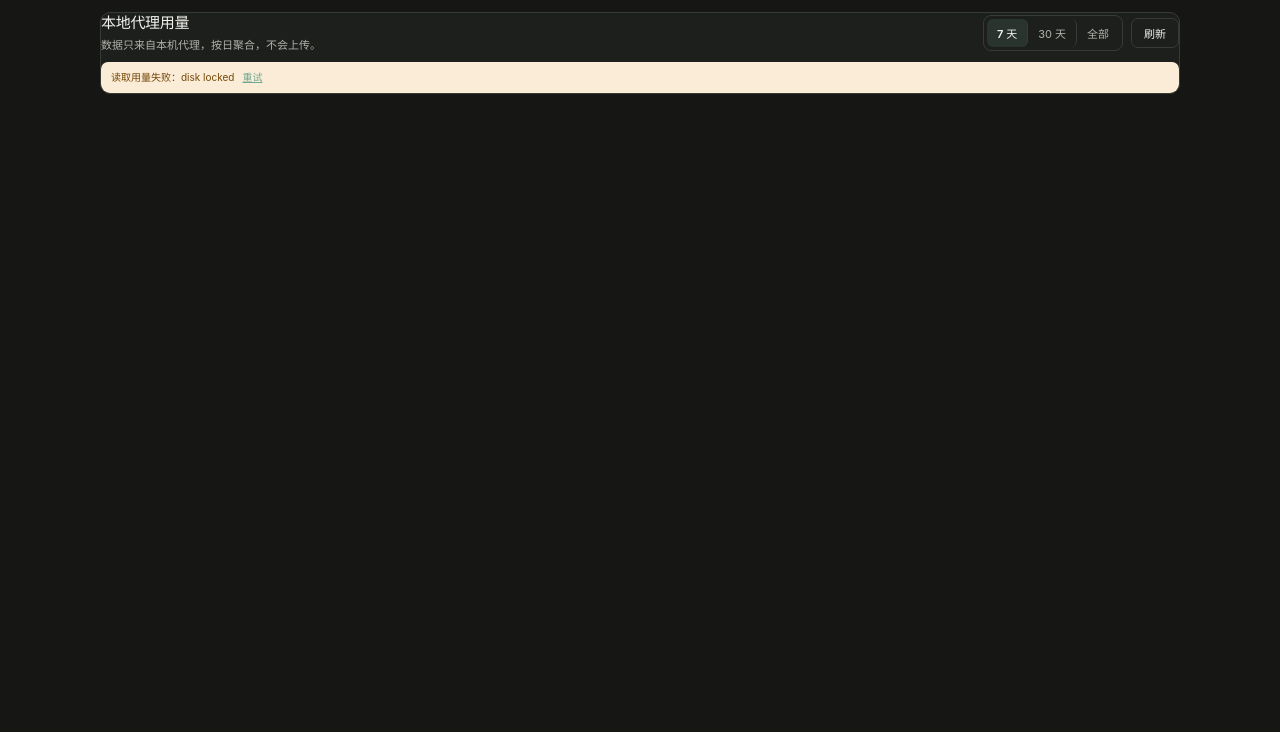
Test case: UsagePage › shows readable error and retries
Expected: the message shows "disk locked", [181,71,234,83]
Step 1. Click the button "重试" → {"x": 252, "y": 78}, box [242,70,262,85]
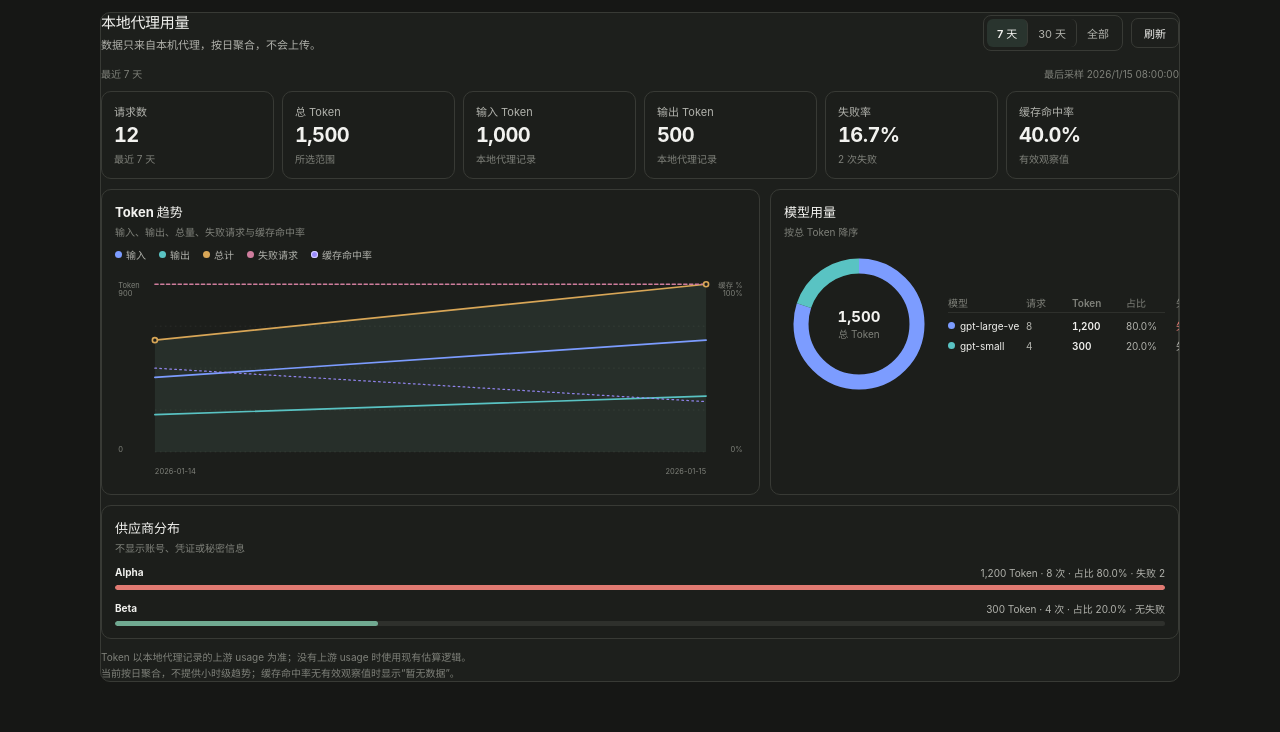
Expected: the text "请求数" is shown, [114,105,147,119]
Expected: the message "读取用量失败：disk locked 重试" is gone
